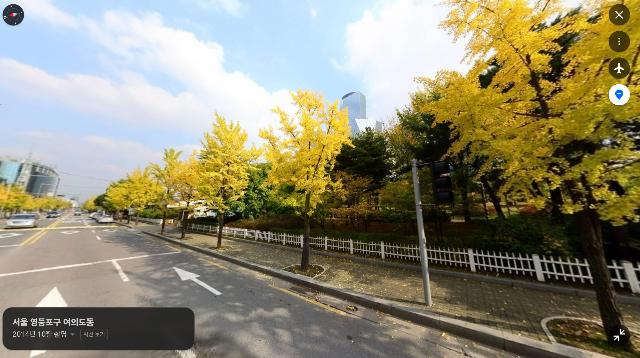ginkgo: (400, 0, 640, 345), (255, 87, 355, 272), (191, 109, 262, 250), (164, 147, 205, 239), (145, 148, 186, 234), (114, 166, 157, 226), (0, 185, 44, 219), (100, 174, 129, 220)
other: (330, 122, 391, 229)
